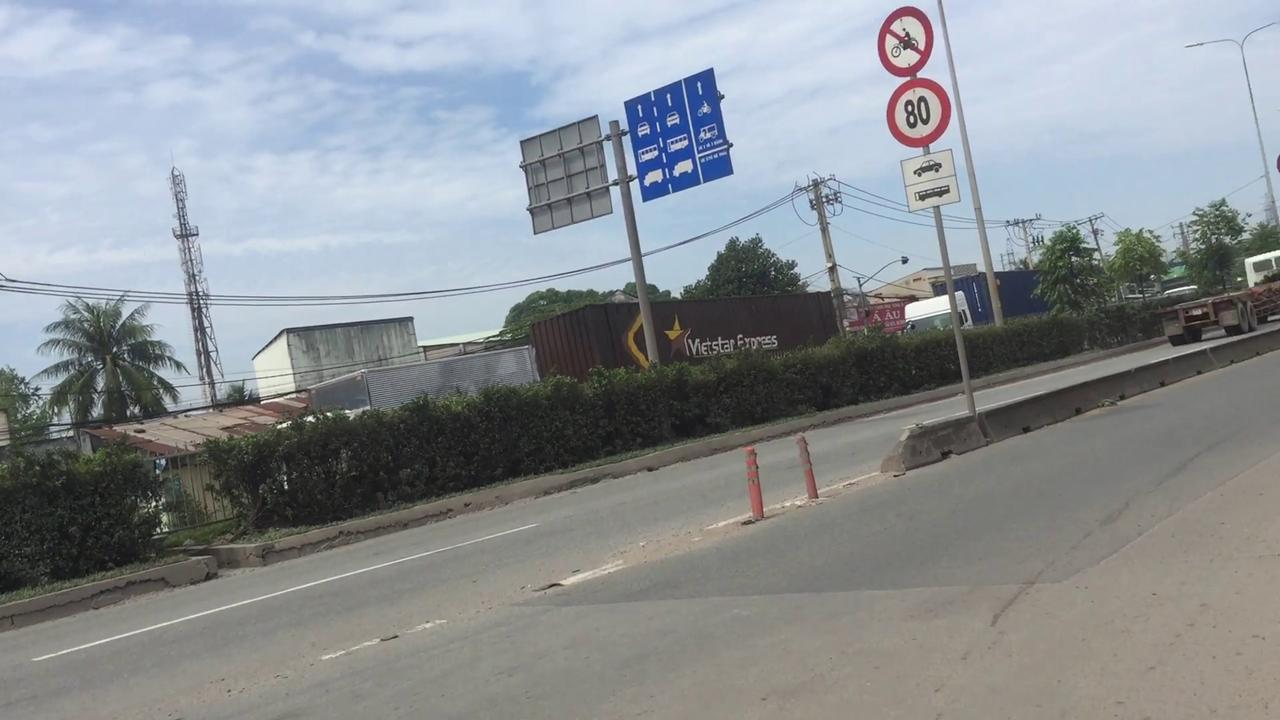P.103b: (876, 6, 934, 76)
R.301c: (888, 77, 948, 146)
